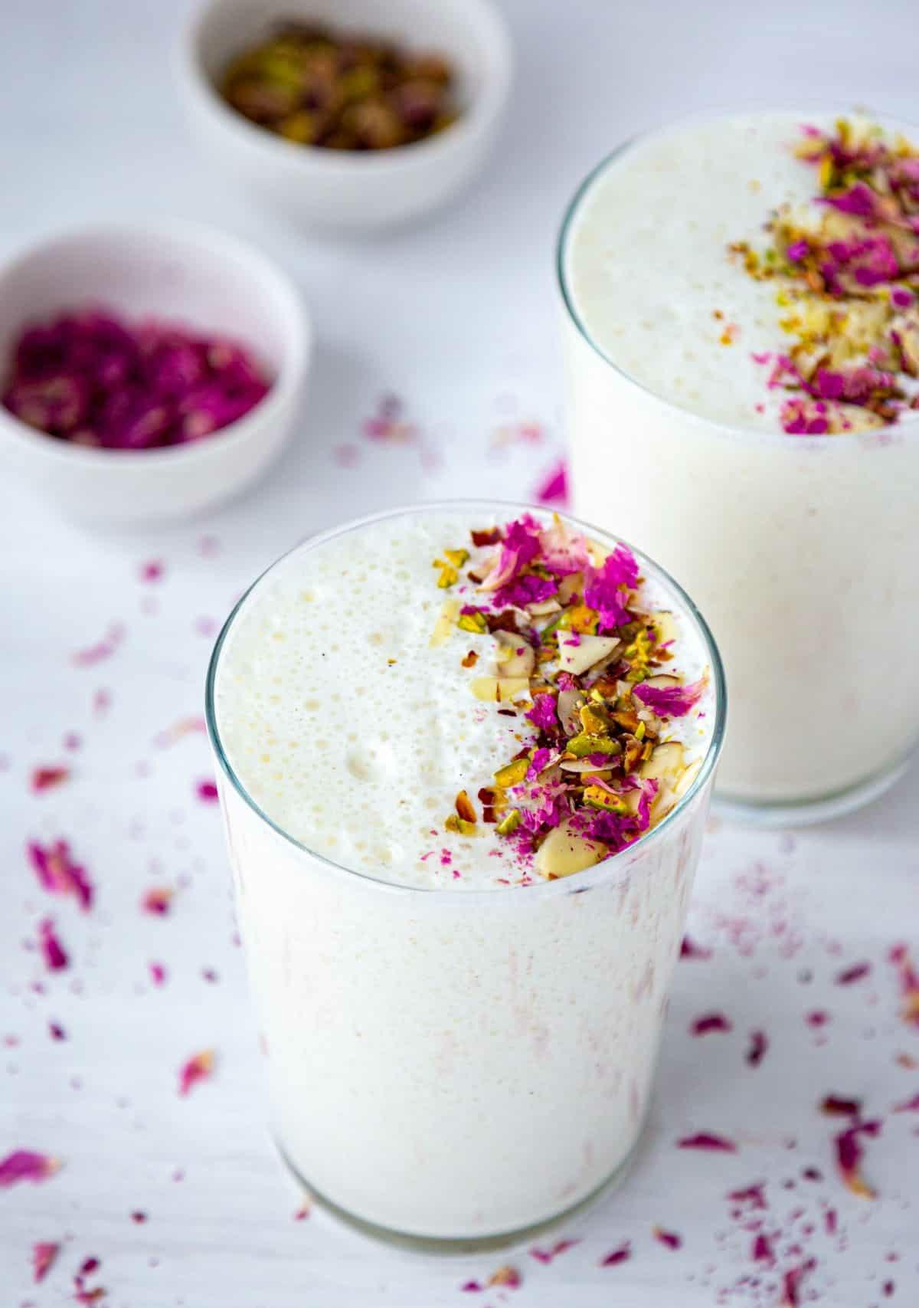Lassi: (216, 507, 719, 1239), (557, 111, 919, 808)
